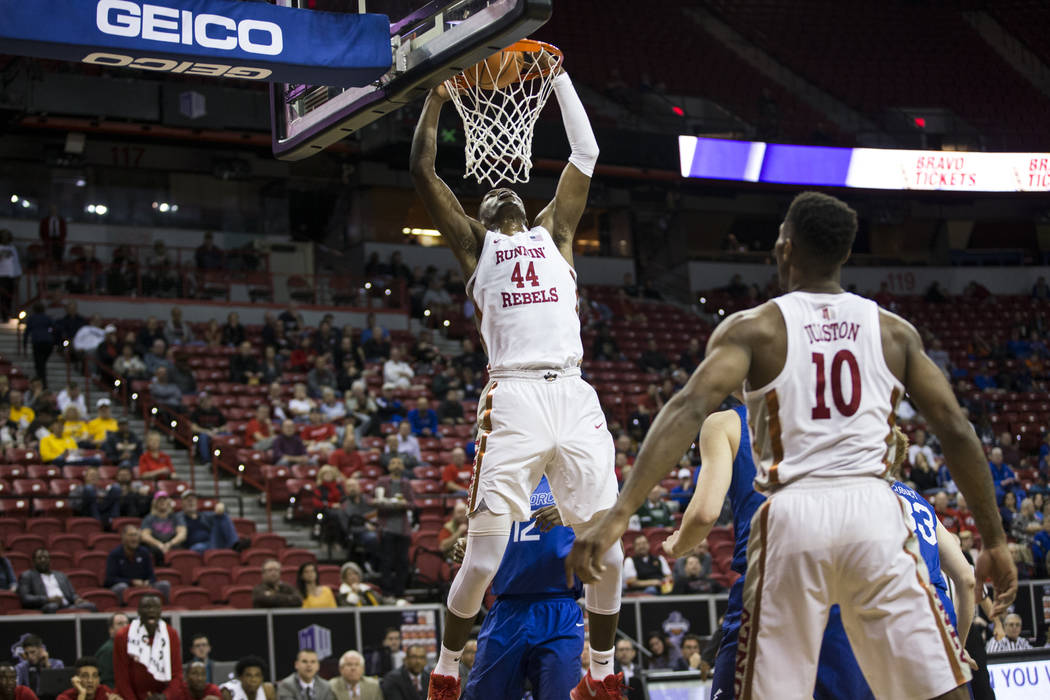geico: (90, 1, 298, 61)
